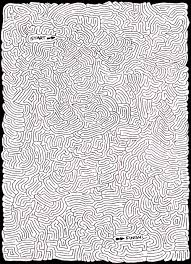maze: (1, 2, 191, 264)
